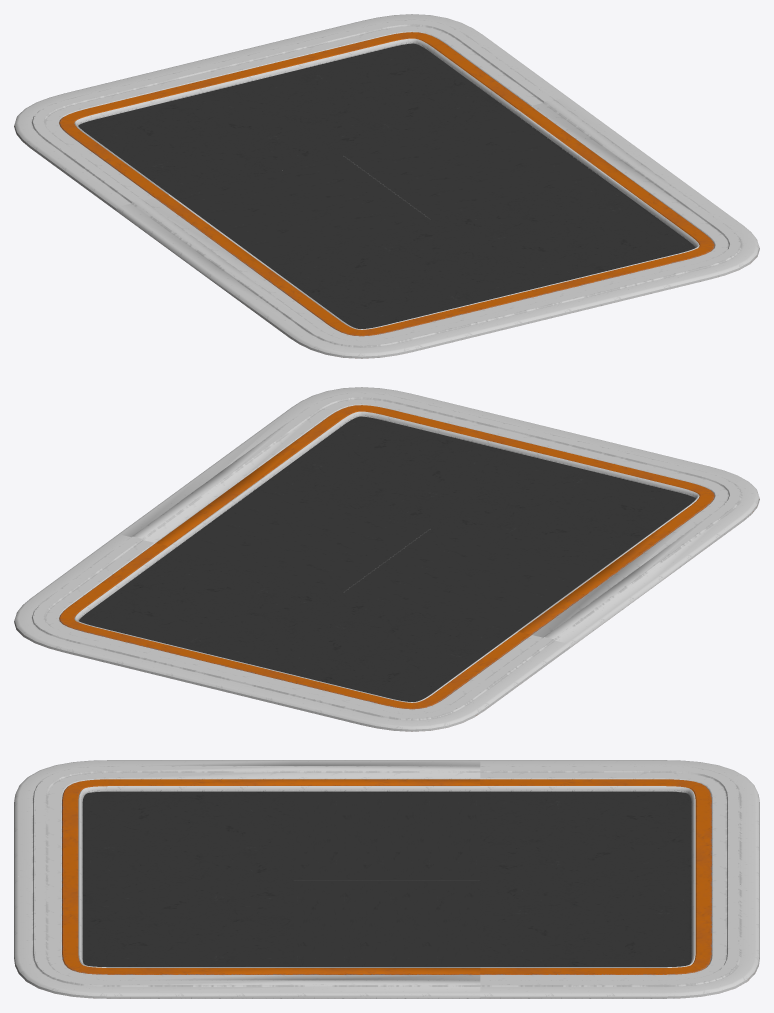
Rendered from FloorRoom.fbx.
3 views of the same model, one above another, from view 1: azimuth 30°, elevation 25°; view 2: azimuth 150°, elevation 25°; view 3: azimuth 270°, elevation 25° (orthographic). The views are drawn at different scales.
Parts seen in each view (by area): view 1: FloorRoom; view 2: FloorRoom; view 3: FloorRoom.
Boxes of the visible parts, x1=… form: FloorRoom: x1=14, y1=14, x2=759, y2=358; FloorRoom: x1=14, y1=387, x2=759, y2=731; FloorRoom: x1=14, y1=760, x2=759, y2=998.
Bounding box in the file's own units: 12.95 × 0.1315 × 17.27.
